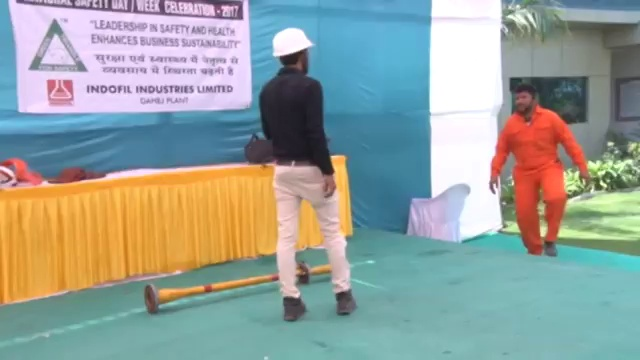helmet: (268, 27, 316, 58)
helmet_off: (511, 83, 539, 116)
helmet_on: (268, 26, 318, 76)
person: (258, 26, 357, 319), (491, 81, 591, 261)
